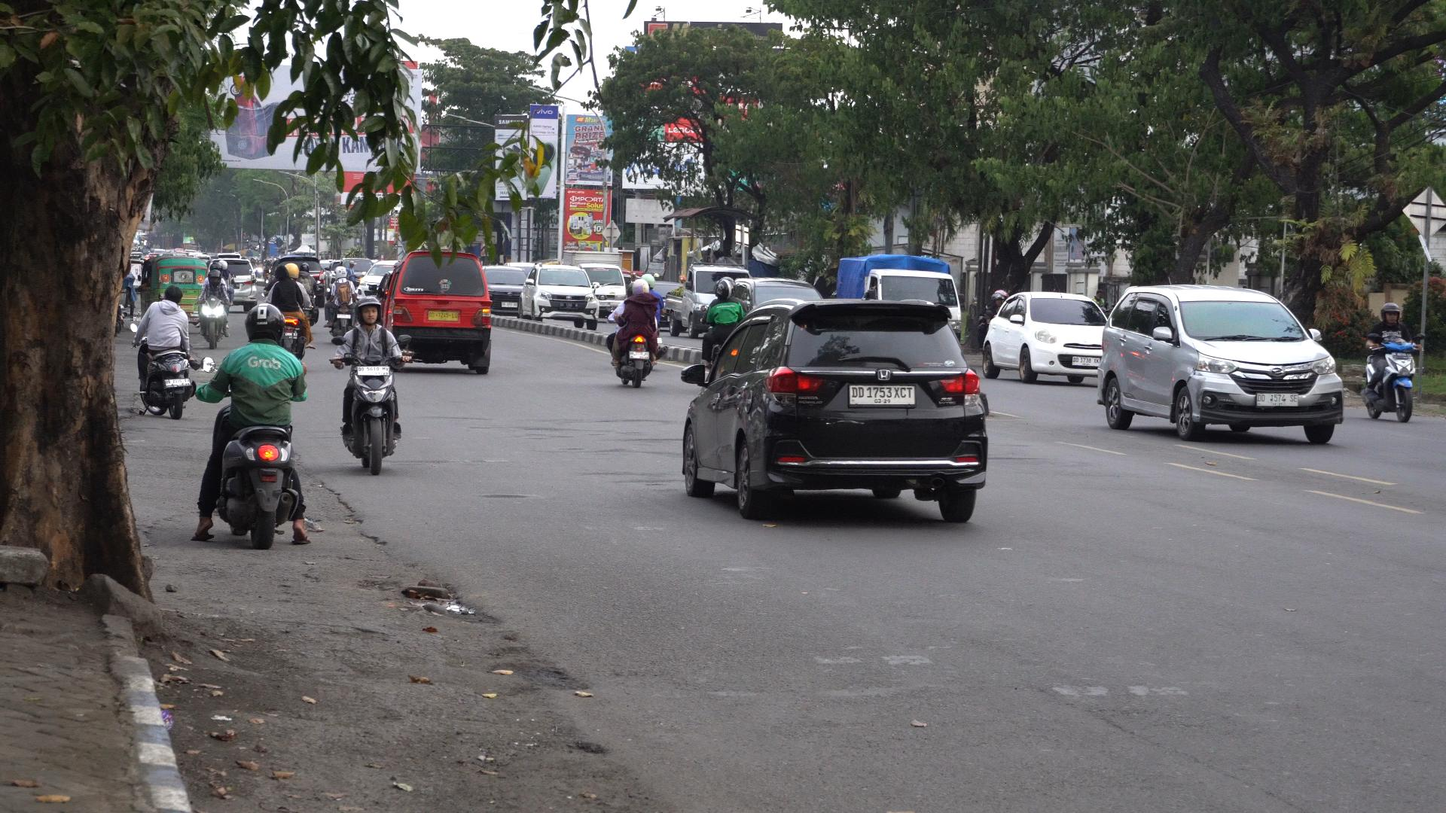number-plate: (355, 364, 392, 378)
